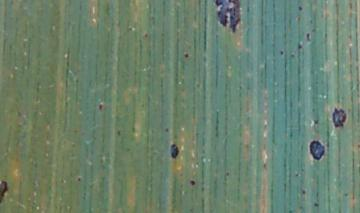tarspot: (214, 1, 241, 32), (308, 140, 326, 160), (332, 107, 347, 129), (1, 180, 8, 203), (170, 143, 180, 159), (305, 31, 312, 41), (189, 179, 197, 186), (98, 103, 104, 112), (298, 41, 304, 49), (116, 128, 122, 136), (301, 188, 307, 196), (184, 52, 190, 59), (313, 118, 319, 125), (279, 49, 285, 56), (142, 32, 149, 38), (164, 127, 170, 134), (314, 202, 320, 208), (298, 5, 303, 12), (77, 176, 82, 183)
